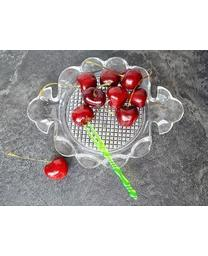cherry: (43, 157, 67, 179), (82, 88, 106, 108), (71, 104, 93, 125), (115, 106, 139, 124), (107, 86, 127, 107), (99, 70, 119, 88), (76, 72, 98, 88), (127, 90, 147, 105), (123, 70, 140, 87)
